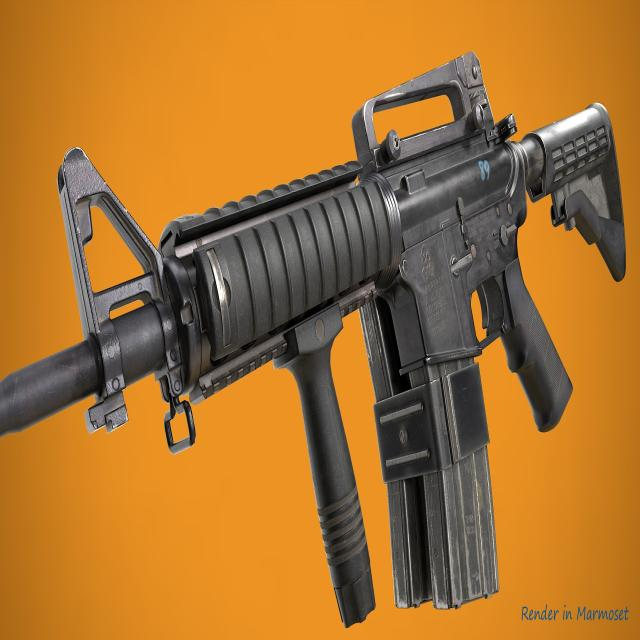Rifle: (0, 53, 627, 631)
